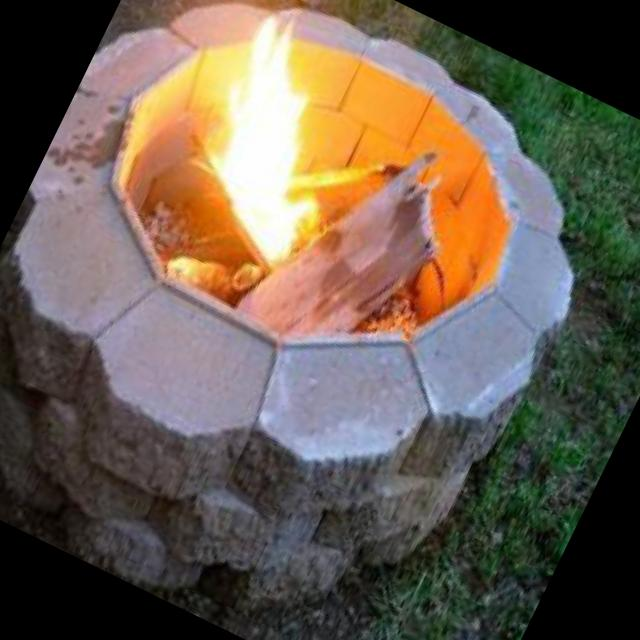fire: (142, 0, 395, 299)
